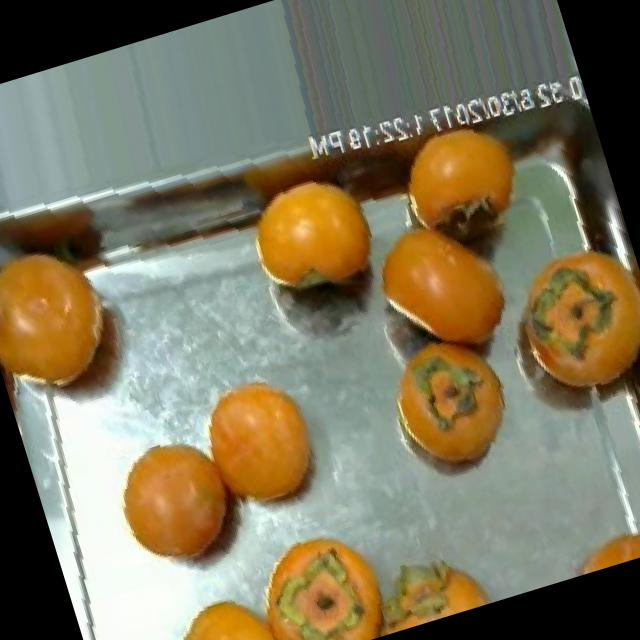Fruit: (346, 182, 540, 392), (470, 217, 640, 430), (88, 410, 269, 604), (0, 210, 151, 437), (371, 312, 540, 502), (177, 350, 345, 541), (378, 108, 554, 285), (227, 154, 398, 322), (241, 508, 402, 640), (140, 575, 291, 640)
